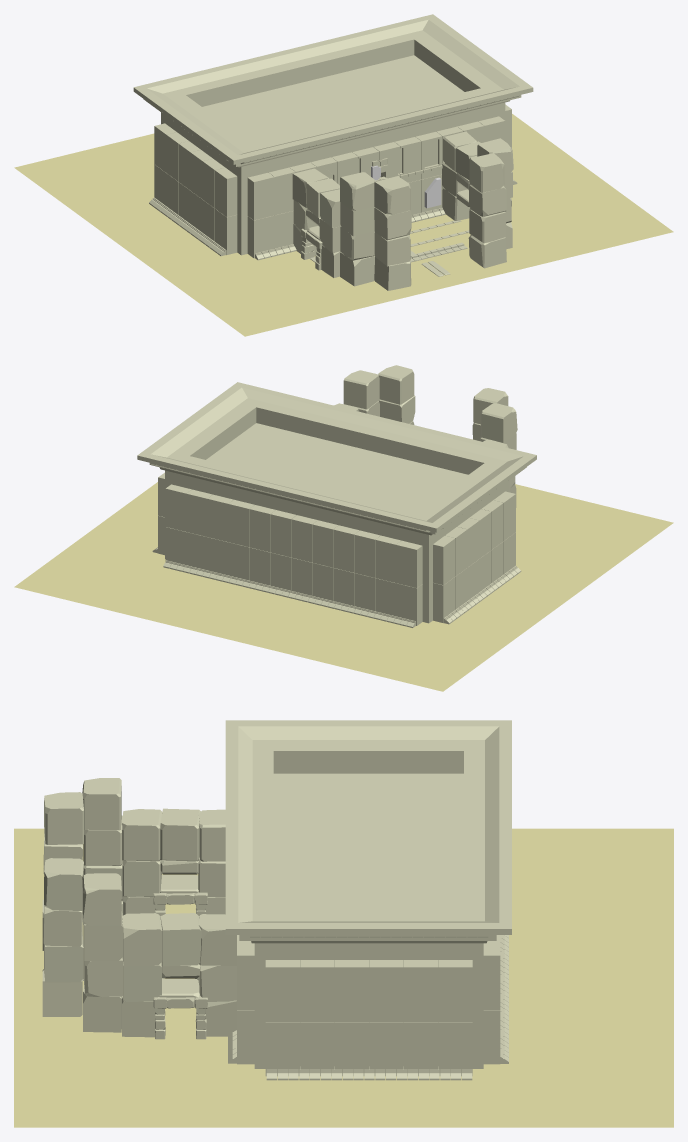
3 views of the same model, one above another, from view 1: azimuth 30°, elevation 25°; view 2: azimuth 150°, elevation 25°; view 3: azimuth 270°, elevation 25° (orthographic). The views are drawn at different scales.
Visible parts, largest first — view 1: Plane.001, Cube, Cube.007, Cube.067, Cube.061, Cube.068, Cube.025, Cube.028, Cube.024, Cube.023, Cube.063, Cube.031 (+4 smaller); view 2: Plane.001, Cube, Cube.060, Cube.061, Cube.068, Cube.067, Cube.059, Cube.063, Cube.065; view 3: Plane.001, Cube, Cube.061, Cube.068, Cube.067, Cube.028, Cube.031, Cube.025, Cube.030, Cube.063, Cube.024, Cube.060 (+7 smaller).
Part boxes in pixels (x1,y1,x2,y2): Plane.001: (14, 114, 673, 336); Cube: (133, 14, 533, 255); Cube.007: (247, 116, 505, 258); Cube.067: (374, 153, 506, 290); Cube.061: (154, 104, 511, 254); Cube.068: (340, 138, 513, 286); Cube.025: (292, 131, 476, 207); Cube.028: (306, 141, 480, 217); Cube.024: (293, 162, 466, 229); Cube.023: (293, 187, 469, 255); Cube.063: (149, 180, 517, 256); Cube.031: (320, 155, 477, 227); Plane.001: (14, 482, 673, 691); Cube: (137, 382, 536, 623); Cube.060: (165, 484, 422, 625); Cube.061: (158, 472, 515, 623); Cube.068: (343, 370, 517, 507); Cube.067: (378, 365, 508, 440); Cube.059: (163, 560, 415, 627); Cube.063: (152, 547, 521, 624); Cube.065: (150, 463, 430, 532); Plane.001: (14, 828, 673, 1127); Cube: (225, 720, 511, 1068); Cube.061: (265, 960, 472, 1076); Cube.068: (82, 778, 122, 1032); Cube.067: (42, 792, 83, 1016); Cube.028: (160, 808, 201, 966); Cube.031: (122, 809, 162, 966); Cube.025: (198, 809, 236, 965); Cube.030: (122, 860, 161, 1001); Cube.063: (266, 1066, 472, 1080); Cube.024: (198, 857, 236, 1001); Cube.060: (483, 935, 500, 1064).
Bounding box in the file's own units: 13705 × 3385 × 12779.
